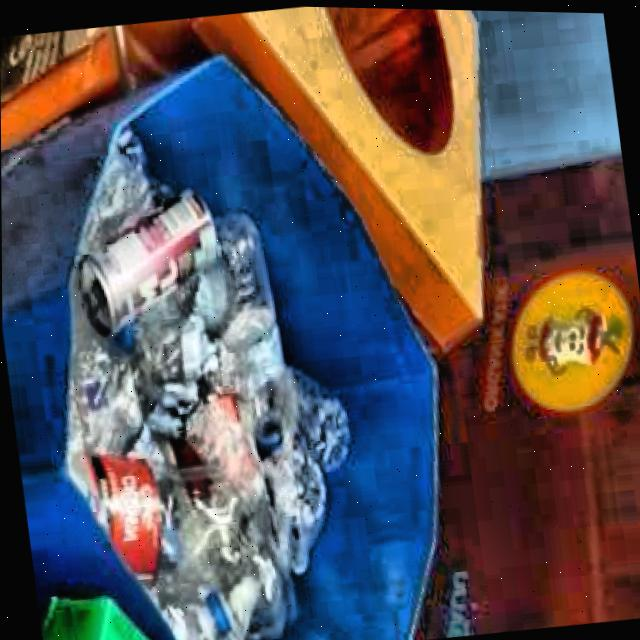metal: (71, 192, 208, 337)
